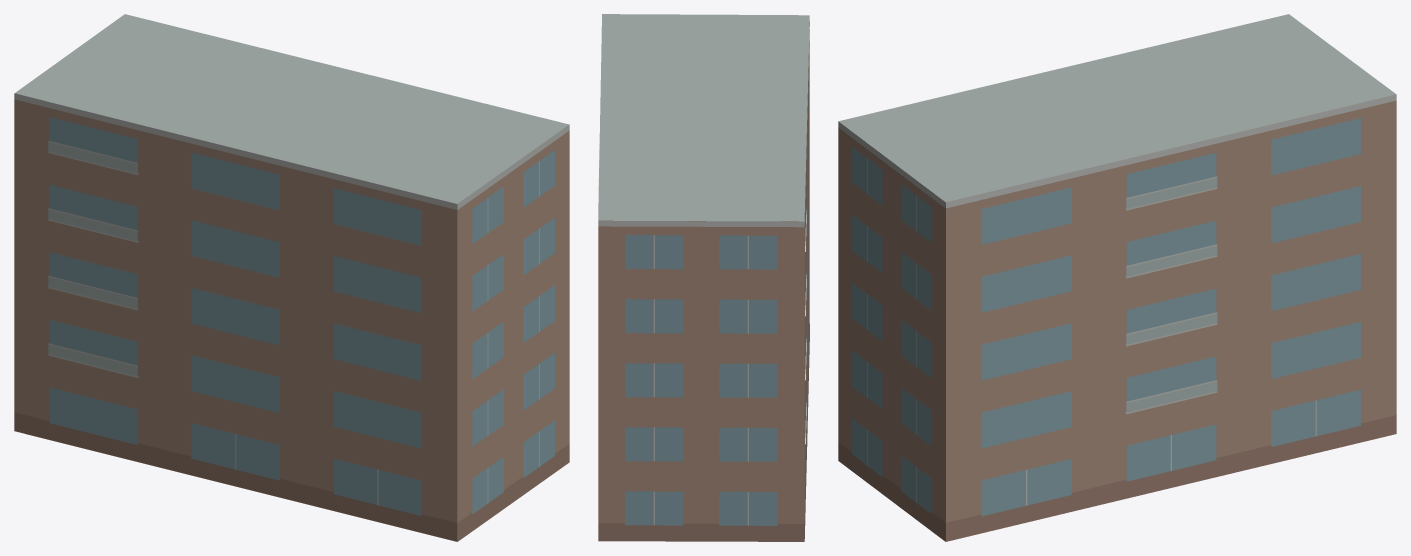
Rendered from survey-upis-32664373.glb.
The picture shows the model from 3 angles, left to right: view 1: azimuth 30°, elevation 25°; view 2: azimuth 150°, elevation 25°; view 3: azimuth 270°, elevation 25°; orthographic projection. The views are drawn at different scales.
Visible parts, largest first — view 1: survey-upis-32664373.tmp; view 2: survey-upis-32664373.tmp; view 3: survey-upis-32664373.tmp.
Part boxes in pixels (left/top/right/bottom): survey-upis-32664373.tmp: left=14, top=14, right=569, bottom=541; survey-upis-32664373.tmp: left=598, top=14, right=809, bottom=541; survey-upis-32664373.tmp: left=838, top=14, right=1396, bottom=541.
Bounding box in the file's own units: 16.32 × 13.7 × 20.43.
